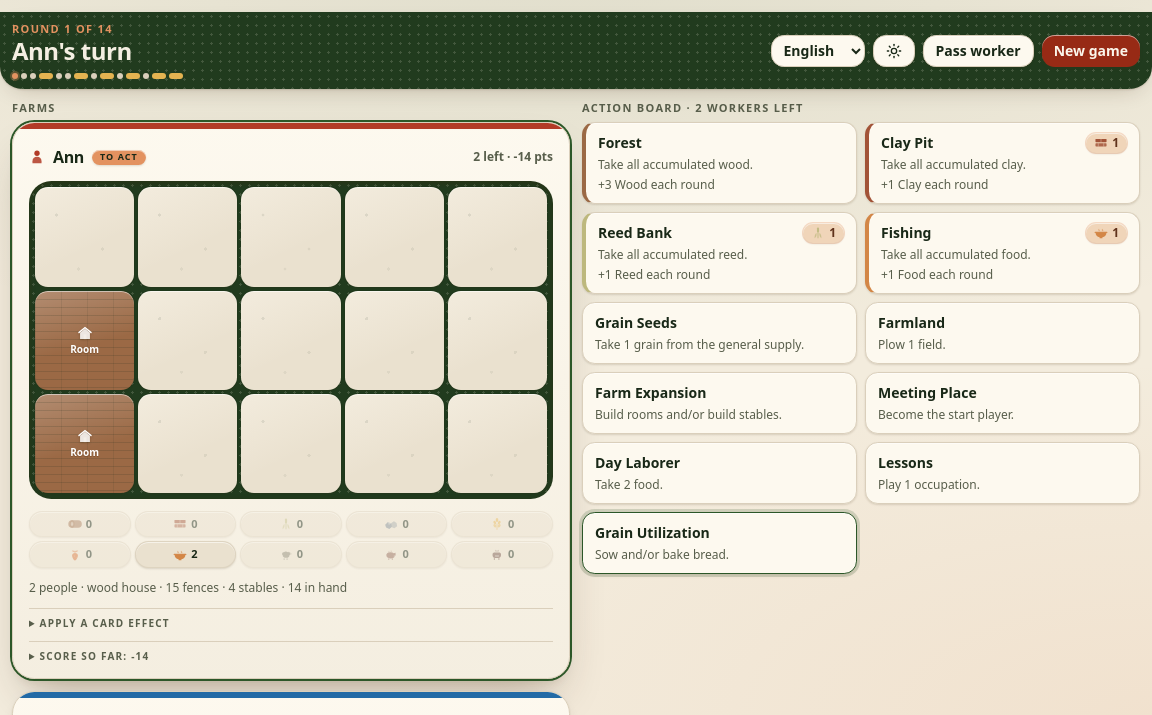
Scenario: errors › clears the alert on the next successful action
Step 1. Click the button "Forest Take all accumulated wood. +3 Wood each round" → (720, 163), box [582,122,857,204]
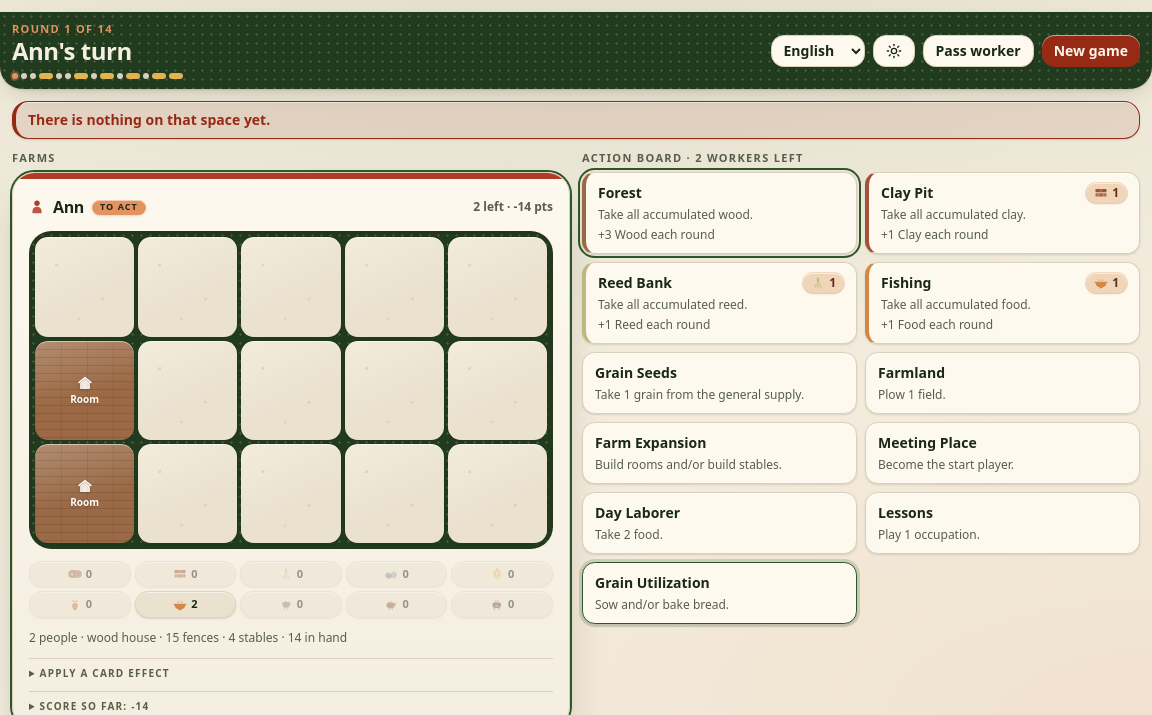
Now the message "There is nothing on that space yet." is shown, box [12,101,1140,139]
Step 2. Click the button "Day Laborer Take 2 food." → (638, 513), box [582,492,857,554]
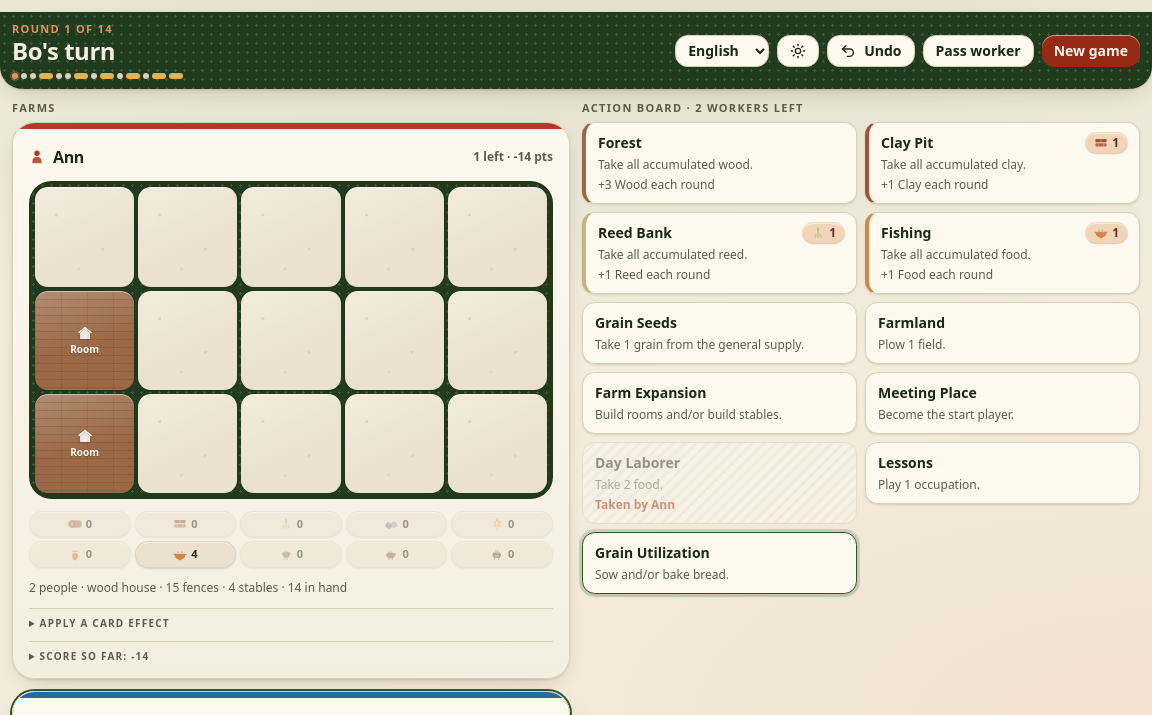
Now the message "There is nothing on that space yet." is gone
